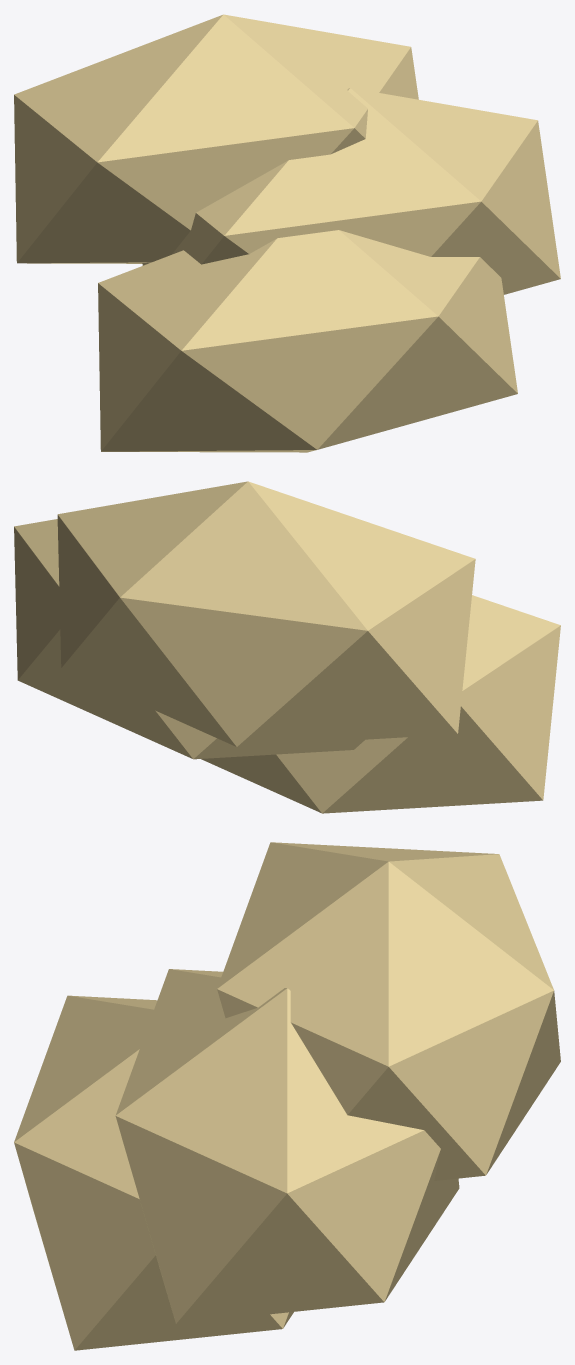
The model's file is item_062_rye_seed_m.glb.
3 views of the same model, one above another, from view 1: azimuth 30°, elevation 25°; view 2: azimuth 150°, elevation 25°; view 3: azimuth 270°, elevation 25° (orthographic). The views are drawn at different scales.
Visible parts, largest first — view 1: item_062_rye_seed_m; view 2: item_062_rye_seed_m; view 3: item_062_rye_seed_m.
Part boxes in pixels (x1,y1,x2,y2): item_062_rye_seed_m: (14,14,560,452); item_062_rye_seed_m: (14,481,560,813); item_062_rye_seed_m: (14,842,560,1350).
Bounding box in the file's own units: 0.3953 × 0.2968 × 0.3233.
